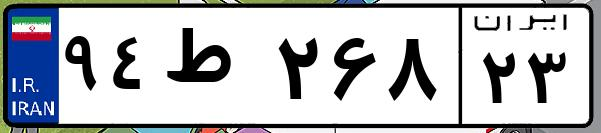2: (270, 28, 330, 110), (475, 38, 525, 113)
3: (525, 38, 570, 115)
4: (110, 28, 158, 98)
6: (330, 28, 385, 110)
8: (385, 28, 445, 110)
9: (57, 26, 110, 100)
ط: (158, 20, 270, 120)
